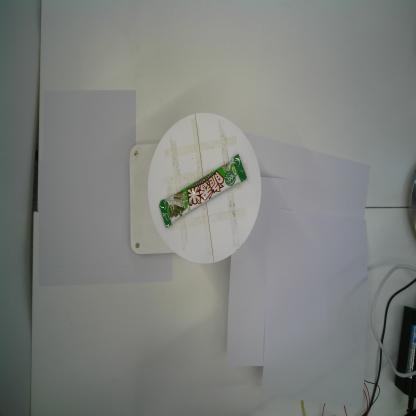Chocolate: (158, 150, 248, 230)
